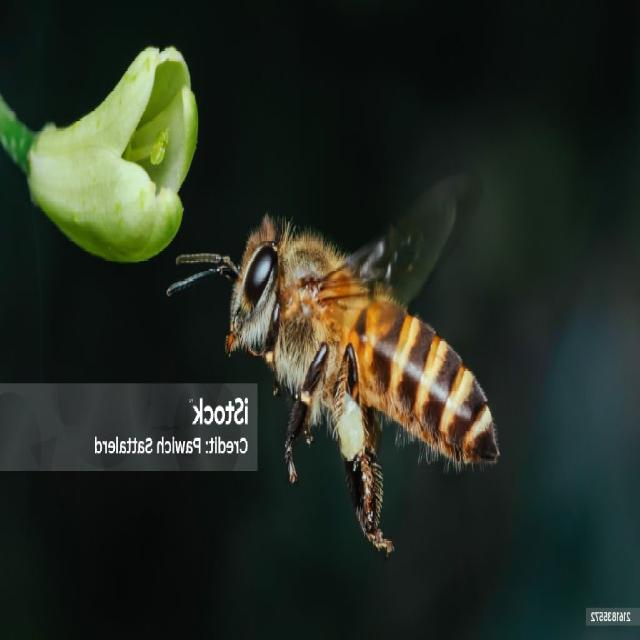bees: (164, 158, 500, 557)
